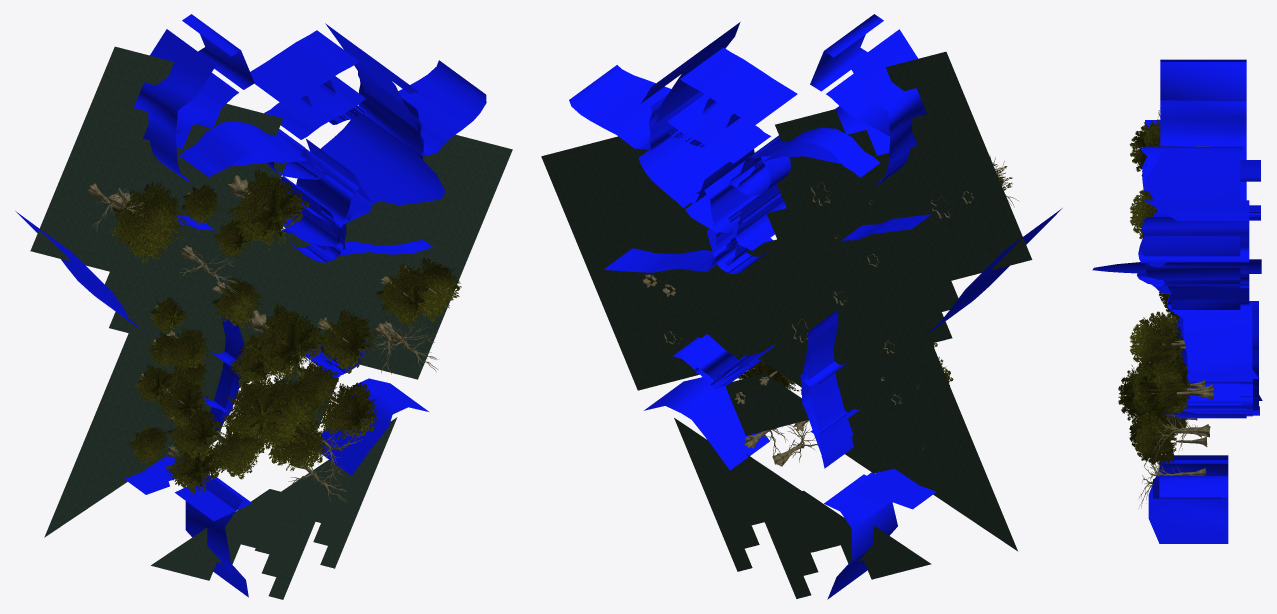
The picture shows the model from 3 angles, left to right: view 1: azimuth 30°, elevation 25°; view 2: azimuth 150°, elevation 25°; view 3: azimuth 270°, elevation 25°; orthographic projection. The views are drawn at different scales.
Parts seen in each view (by area): view 1: 3DSMesh_2, 3DSMesh_4, 3DSMesh_1, 3DSMesh_0; view 2: 3DSMesh_2, 3DSMesh_4, 3DSMesh_0, 3DSMesh_1; view 3: 3DSMesh_4, 3DSMesh_1, 3DSMesh_0.
Boxes of the visible parts, x1,y1,x2,y2 form: 3DSMesh_2: (30,46,512,599); 3DSMesh_4: (15,14,486,597); 3DSMesh_1: (109,169,461,494); 3DSMesh_0: (87,175,438,504); 3DSMesh_2: (541,51,1032,598); 3DSMesh_4: (569,14,1062,599); 3DSMesh_0: (642,155,1019,466); 3DSMesh_1: (737,162,1012,394); 3DSMesh_4: (1092,59,1262,543); 3DSMesh_1: (1118,119,1190,465); 3DSMesh_0: (1138,110,1214,508).
Size of the model in its own units: 39737 by 45971 by 13933.
